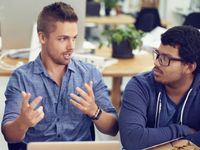hand: (19, 90, 44, 129), (69, 80, 95, 116)
